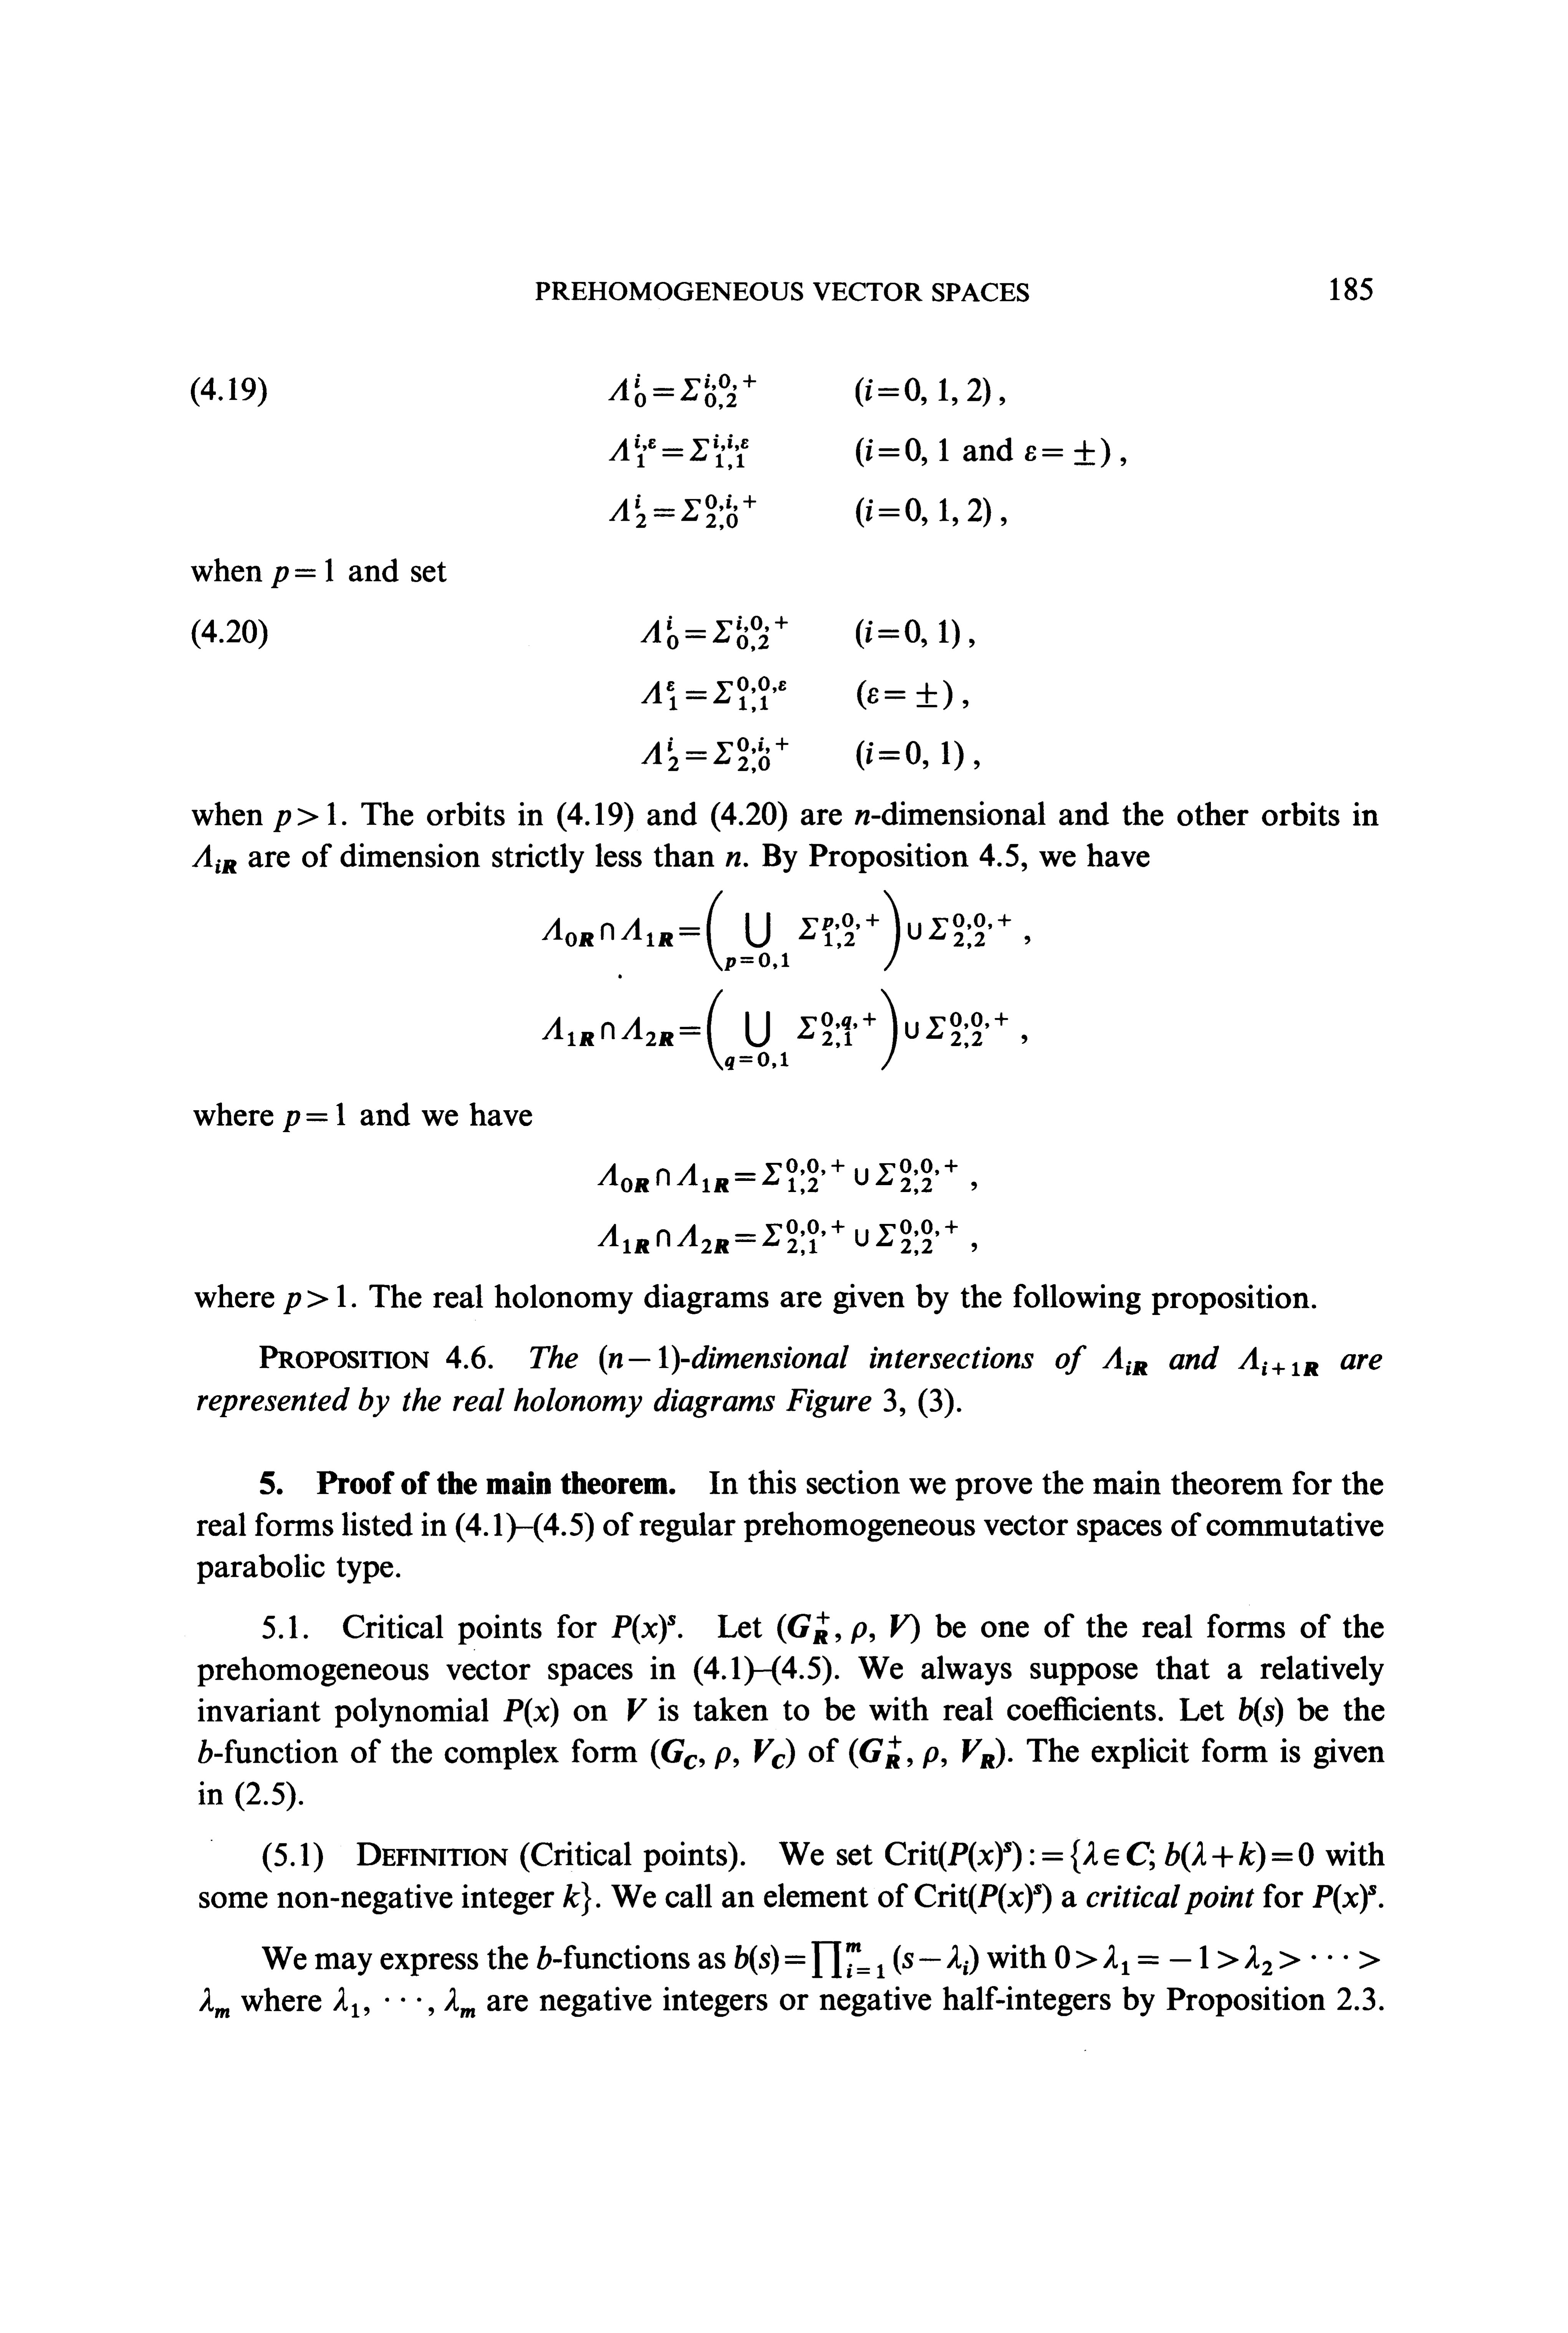maths: (543, 891, 1012, 978), (543, 989, 1008, 1069), (886, 1839, 1314, 1873), (597, 1159, 957, 1194), (597, 1220, 957, 1255), (1055, 1944, 1379, 1974), (735, 1941, 978, 1978), (609, 373, 756, 410), (609, 494, 756, 530), (641, 737, 788, 774), (641, 676, 786, 712), (641, 616, 788, 651), (849, 1736, 1004, 1768), (609, 434, 747, 469), (777, 1610, 919, 1643), (651, 1738, 794, 1769), (333, 1986, 474, 2018), (915, 1883, 1052, 1913), (856, 376, 990, 406), (856, 497, 990, 527), (856, 740, 963, 770), (856, 620, 959, 649), (856, 438, 949, 467), (857, 681, 952, 709), (1025, 438, 1110, 467), (598, 1344, 679, 1374), (1239, 1348, 1318, 1376), (1312, 1883, 1375, 1915), (611, 1614, 675, 1643), (273, 802, 336, 831), (282, 1103, 345, 1132), (271, 558, 333, 588), (284, 1285, 345, 1314), (504, 1698, 558, 1727), (1102, 1346, 1148, 1376), (1239, 1696, 1283, 1726), (193, 845, 236, 873), (563, 1881, 592, 1916), (199, 1988, 229, 2018), (626, 1698, 646, 1720), (198, 1740, 212, 1762), (537, 1946, 551, 1969), (856, 810, 870, 824), (726, 852, 740, 866)
